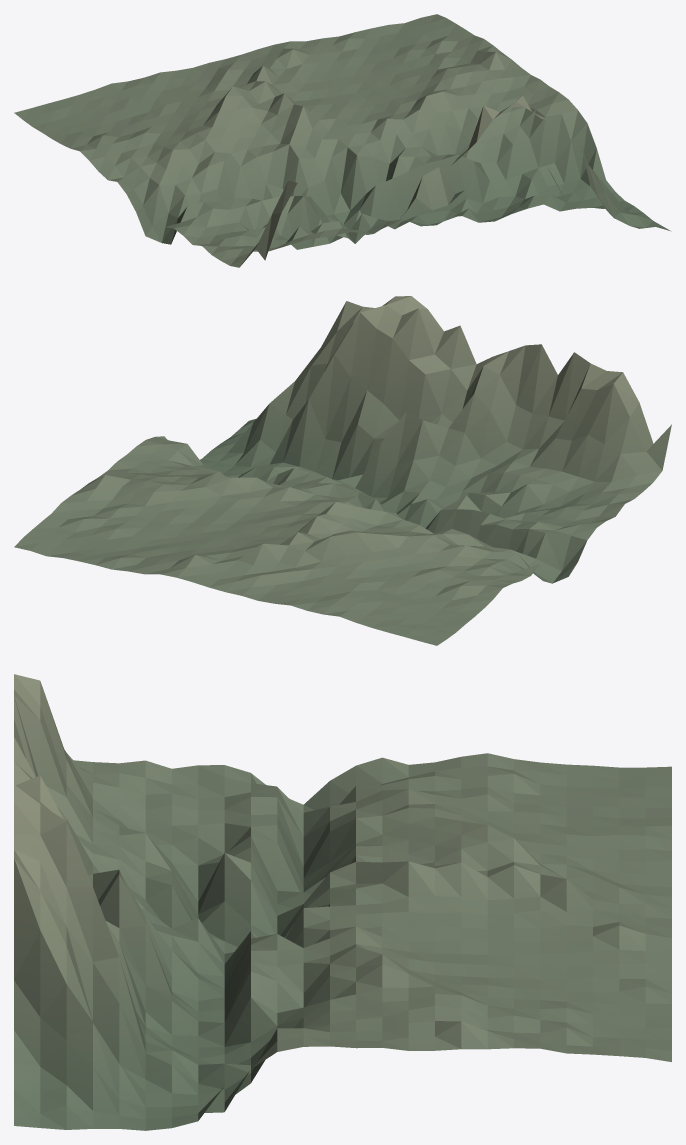
File: tile_3_1.glb
3 renders of one model, top to bottom at view 1: azimuth 30°, elevation 25°; view 2: azimuth 150°, elevation 25°; view 3: azimuth 270°, elevation 25°, orthographic. The views are drawn at different scales.
Parts seen in each view (by area): view 1: geometry_0; view 2: geometry_0; view 3: geometry_0.
Part boxes in pixels (bbox=[...]): geometry_0: bbox=[14, 14, 671, 267]; geometry_0: bbox=[14, 296, 671, 645]; geometry_0: bbox=[14, 674, 671, 1130].
Bounding box in the file's own units: 127 × 48.37 × 123.
